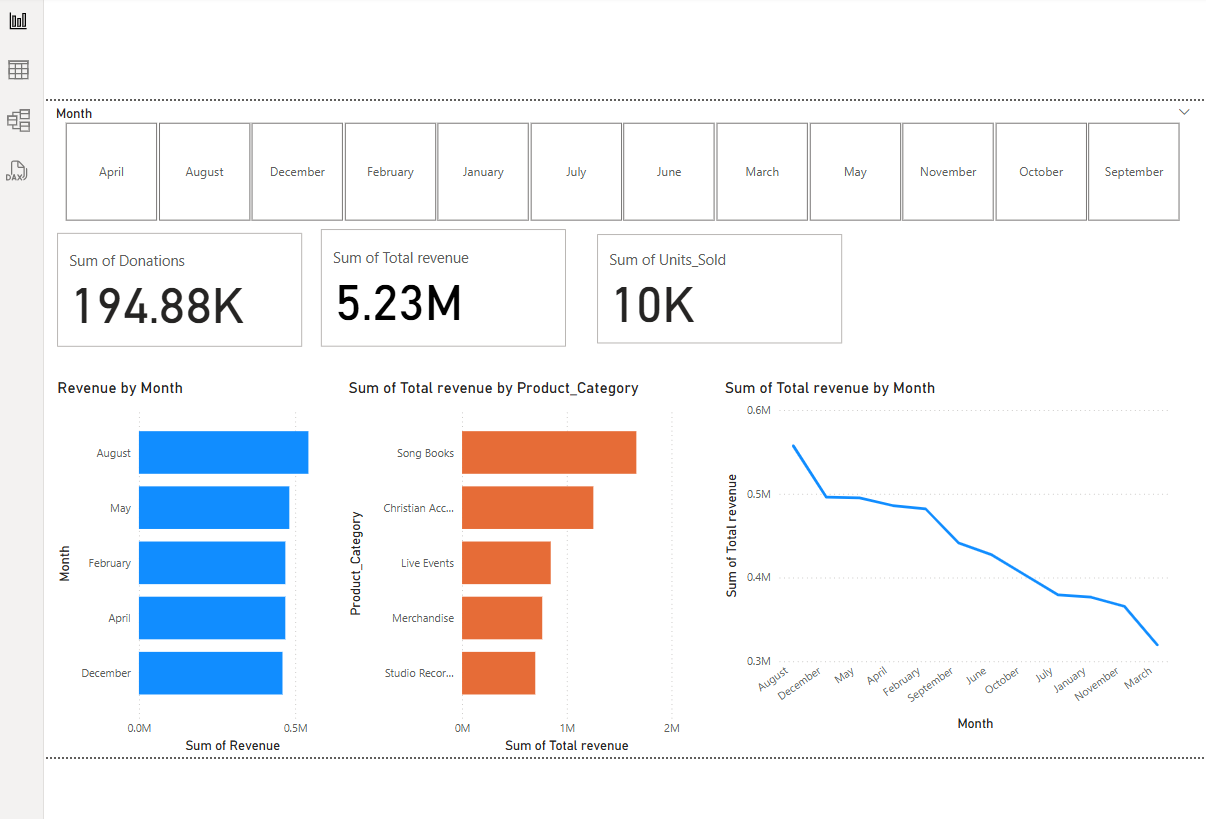

The dashboard page shown, as its layout file describes it:
{"tool":"powerbi","page":{"name":"Page 1","canvas":[1280,720],"ordinal":0},"visuals":[{"type":"cardVisual","fields":{"Data":["Sum(Normalized_Transactions_Table.Total_Revenue)"]},"box":[299.1,135.8,279.9,140],"z":0},{"type":"cardVisual","title":"Donation","fields":{"Data":["Sum(Normalized_Transactions_Table.Donations)"]},"box":[9.6,140,279.9,135.8],"z":1000},{"type":"cardVisual","fields":{"Data":["Sum(Normalized_Transactions_Table.Units_Sold)"]},"box":[602.4,141.3,279.9,130.4],"z":2000},{"type":"barChart","title":"Revenue by Month","fields":{"Y":["Sum(Normalized_Transactions_Table.Revenue)"],"Category":["Normalized_Transactions_Table.Month"]},"box":[9.6,304.6,319.7,415.8],"z":3000},{"type":"slicer","fields":{"Values":["Normalized_Transactions_Table.Month"]},"box":[0,0,1270.7,135.8],"z":4000},{"type":"lineChart","fields":{"Y":["Sum(Normalized_Transactions_Table.Total revenue)"],"Category":["Normalized_Transactions_Table.Month"]},"box":[742.4,304.6,499.5,392.5],"z":5000},{"type":"barChart","fields":{"Category":["Product_Categories_Table.Product_Category"],"Y":["Sum(Normalized_Transactions_Table.Total revenue)"]},"box":[329.3,304.6,378.7,415.8],"z":5001}]}

Visuals, with their boxes on the page's 1280x720 design canvas (x1, y1, x2, y2). These are canvas units, not pixel positions in the 1206x819 screenshot, which may show the page scaled, cropped or inside an application window:
cardVisual - Sum(Normalized_Transactions_Table.Total_Revenue): [299, 136, 579, 276]
"Donation" cardVisual: [10, 140, 290, 276]
cardVisual - Sum(Normalized_Transactions_Table.Units_Sold): [602, 141, 882, 272]
"Revenue by Month" barChart: [10, 305, 329, 720]
slicer - Normalized_Transactions_Table.Month: [0, 0, 1271, 136]
lineChart - Sum(Normalized_Transactions_Table.Total revenue) x Normalized_Transactions_Table.Month: [742, 305, 1242, 697]
barChart - Product_Categories_Table.Product_Category x Sum(Normalized_Transactions_Table.Total revenue): [329, 305, 708, 720]
